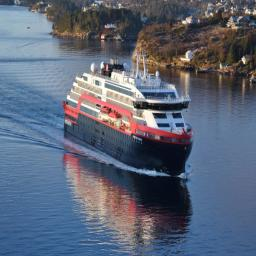cruises: (62, 49, 197, 183)
